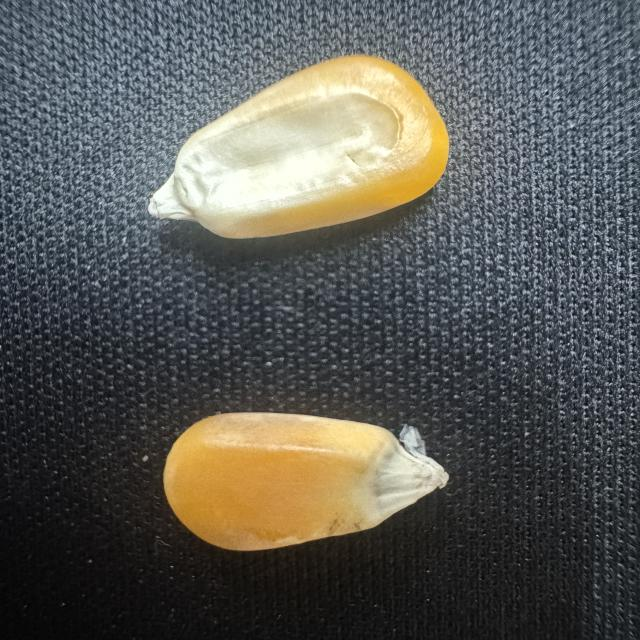Good-Seed: (142, 47, 455, 242), (156, 406, 457, 554)
